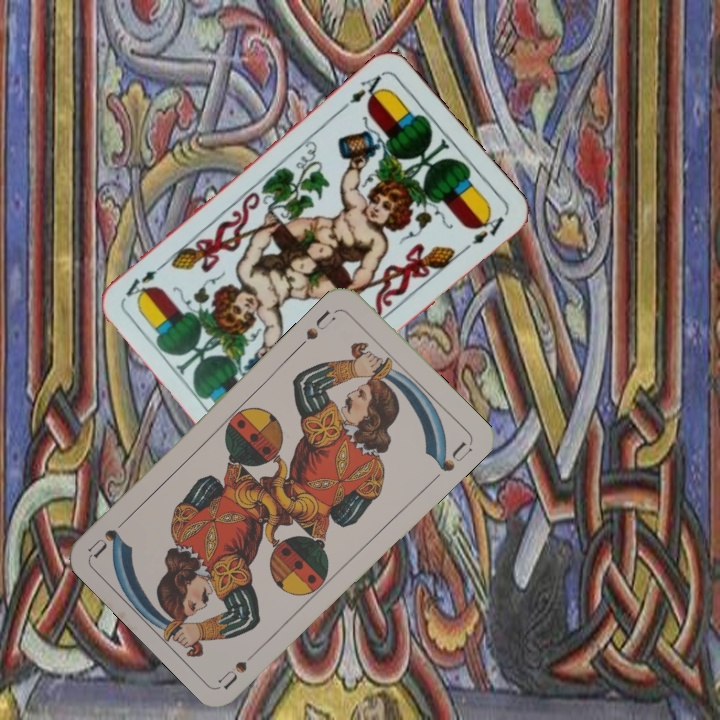EA: (337, 69, 386, 113)
SU: (215, 642, 265, 691), (294, 306, 339, 351)
